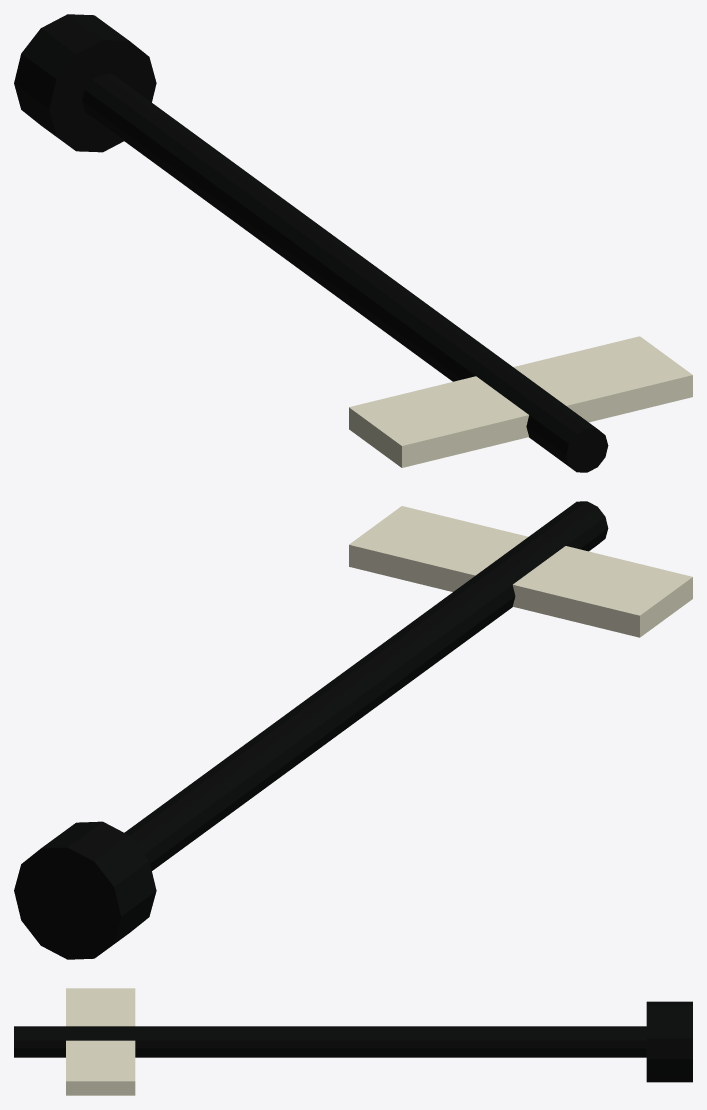
The model's file is street_name_sign.obj.
3 views of the same model, one above another, from view 1: azimuth 30°, elevation 25°; view 2: azimuth 150°, elevation 25°; view 3: azimuth 270°, elevation 25° (orthographic). The views are drawn at different scales.
Visible parts, largest first — view 1: street_name_sign; view 2: street_name_sign; view 3: street_name_sign.
Part boxes in pixels (x1,y1,x2,y2): street_name_sign: (14, 14, 692, 472); street_name_sign: (14, 501, 692, 959); street_name_sign: (14, 988, 692, 1095).
Size of the model in its own units: 0.76 by 0.28 by 2.35.
